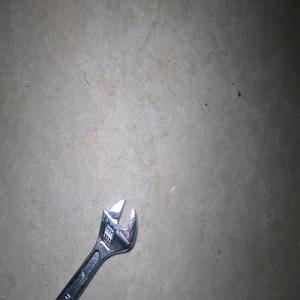Wrench: (55, 198, 136, 300)
